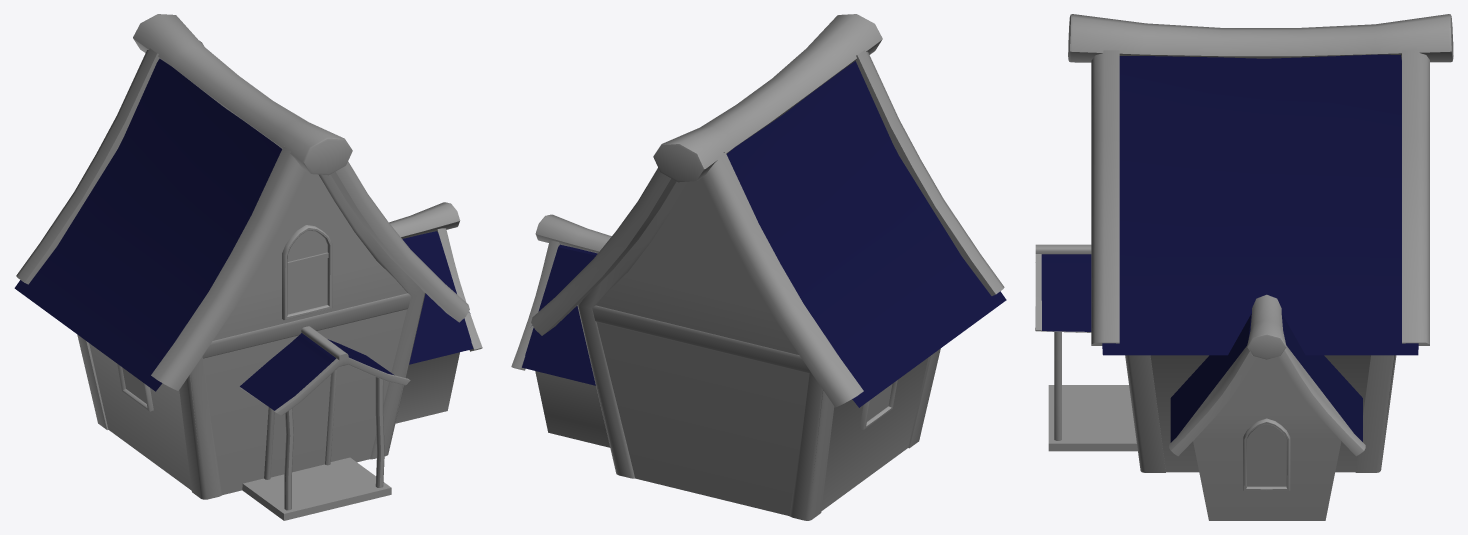
Rendered from casa_buena.fbx.
3 renders of one model, left to right at view 1: azimuth 30°, elevation 25°; view 2: azimuth 150°, elevation 25°; view 3: azimuth 270°, elevation 25°, orthographic. The views are drawn at different scales.
Parts seen in each view (by area): view 1: casa, tejado_iglesia_low, tejado_iglesia_low002, tejado_iglesia_low001; view 2: casa, tejado_iglesia_low, tejado_iglesia_low001; view 3: tejado_iglesia_low, casa, tejado_iglesia_low001, tejado_iglesia_low002.
Boxes of the visible parts, bbox=[...] form: casa: bbox=[16, 14, 482, 520]; tejado_iglesia_low: bbox=[14, 58, 470, 391]; tejado_iglesia_low002: bbox=[240, 333, 394, 410]; tejado_iglesia_low001: bbox=[402, 231, 473, 364]; casa: bbox=[511, 14, 1004, 520]; tejado_iglesia_low: bbox=[532, 61, 1006, 407]; tejado_iglesia_low001: bbox=[522, 244, 597, 385]; tejado_iglesia_low: bbox=[1102, 54, 1418, 355]; casa: bbox=[1035, 14, 1453, 520]; tejado_iglesia_low001: bbox=[1170, 313, 1362, 442]; tejado_iglesia_low002: bbox=[1041, 254, 1091, 331].
Size of the model in its own units: 626 by 586 by 548.
